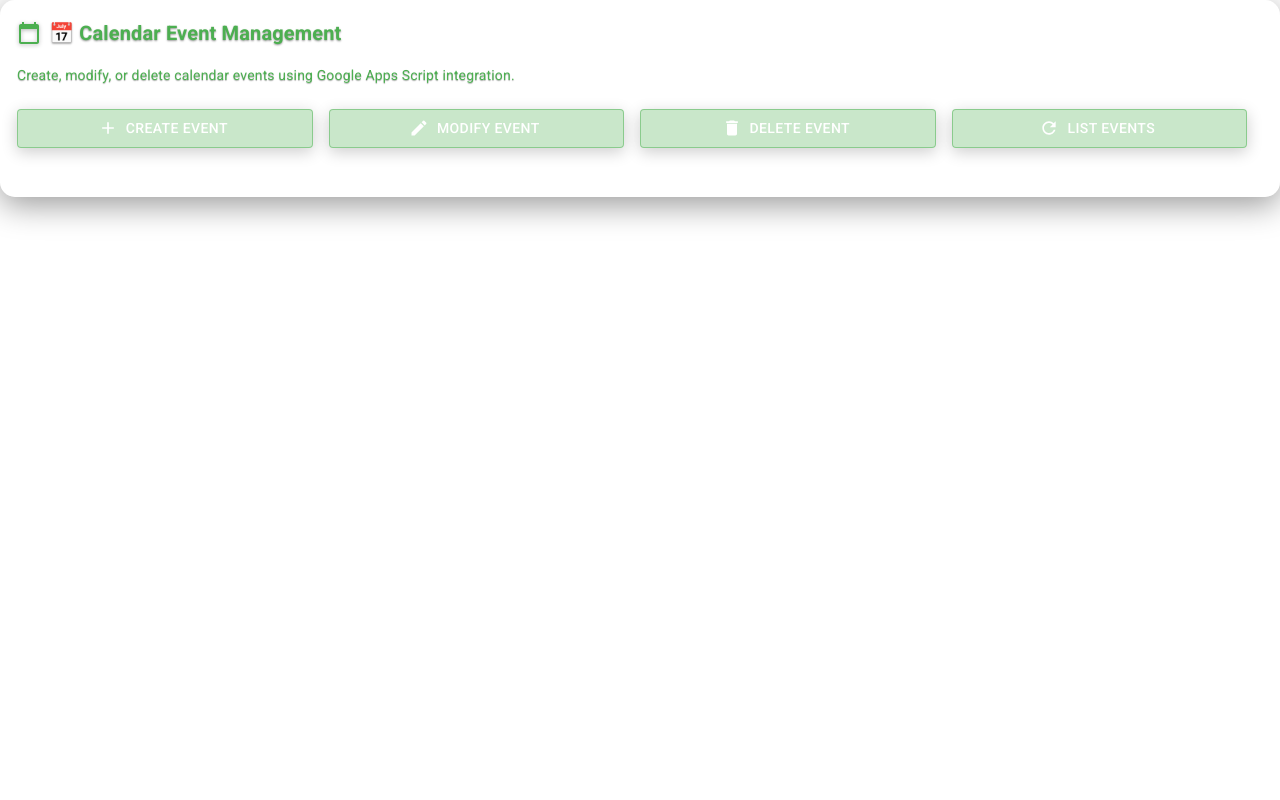
Test: SimpleCalendarTest Component › Create Event › shows validation error for empty title
The image size is (1280, 800).
Open create dialog
Click the button "Create Event" at (165, 128), box [17,109,312,148]
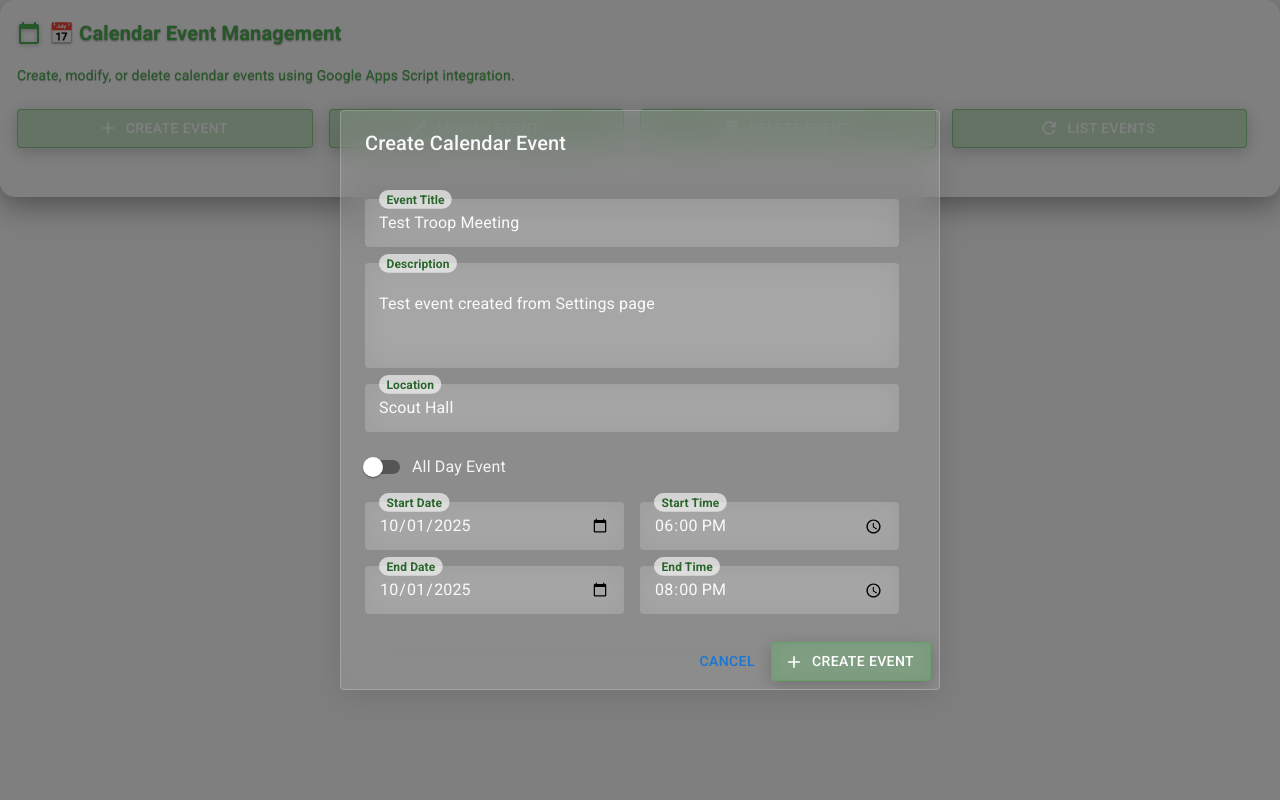
Clear title and submit
Clear the field labelled "Event Title" at (632, 223), box [365,211,899,235]
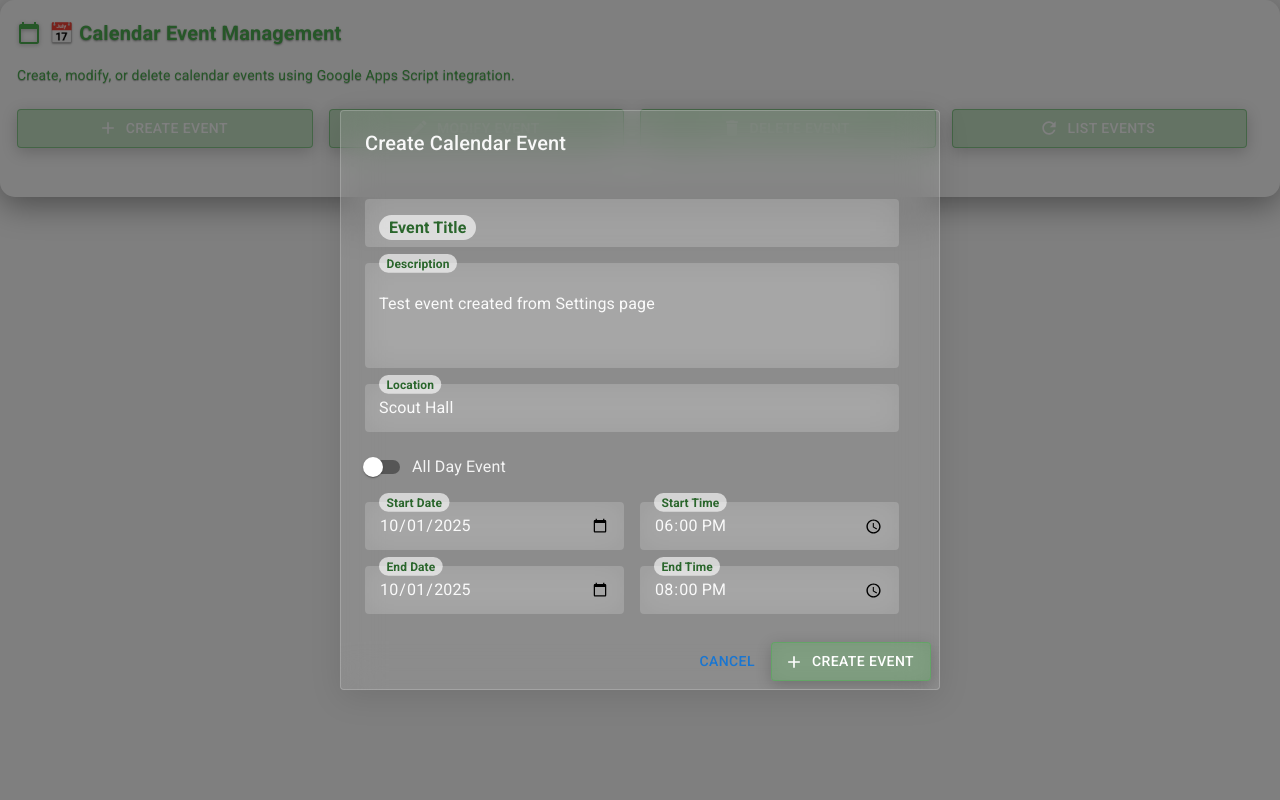
Click the button "Create Event" at (851, 662), box [771,642,931,681]
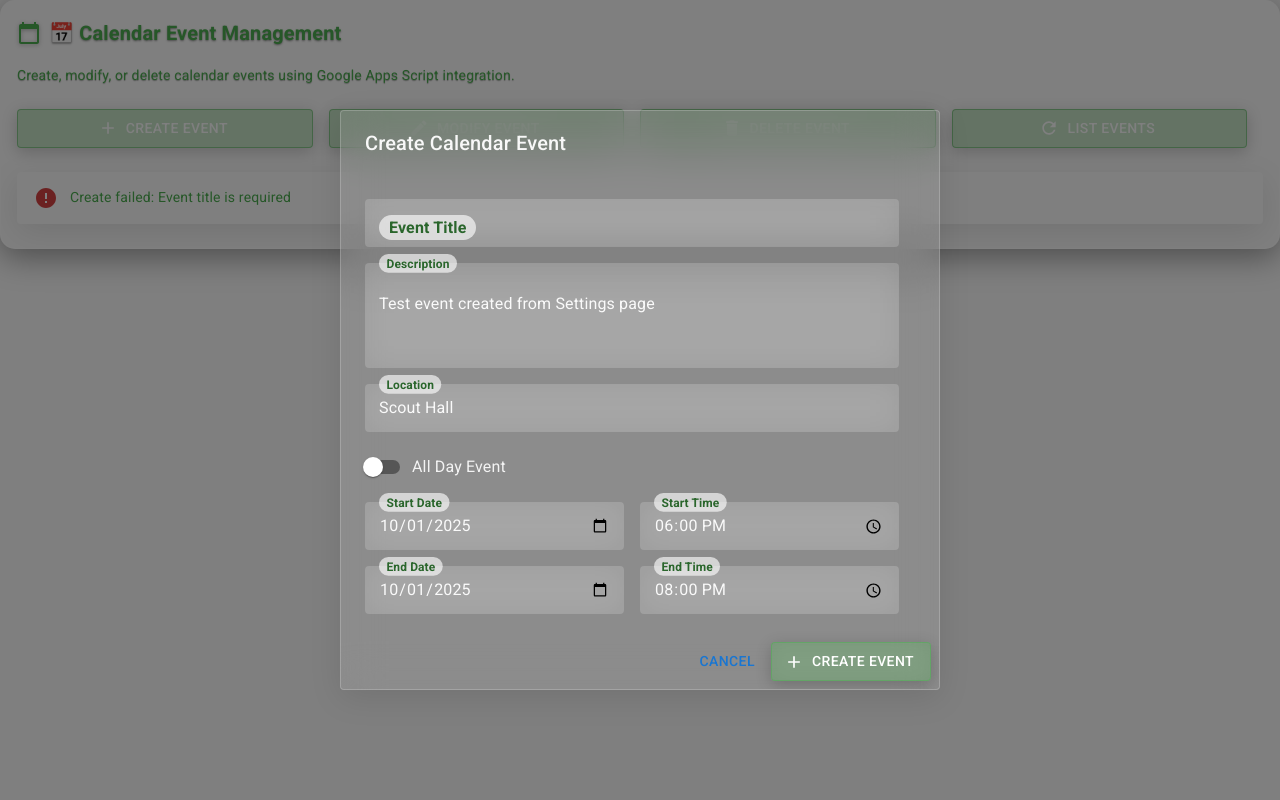
Expected: the text "Create failed: Event title is required" is shown, [70,186,291,206]
